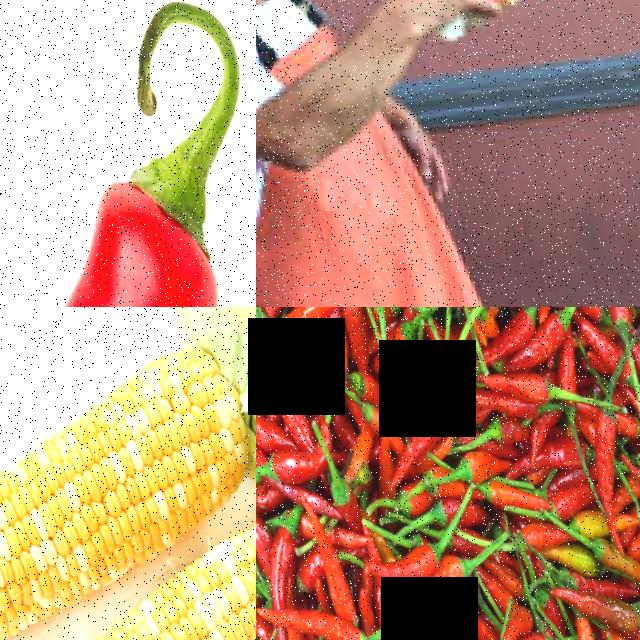chilli: (0, 26, 256, 307), (570, 403, 626, 528), (532, 571, 629, 638), (348, 535, 437, 595), (383, 394, 457, 455), (256, 592, 350, 640), (369, 596, 464, 640), (473, 362, 546, 408), (256, 436, 320, 488), (465, 470, 535, 517), (262, 307, 345, 343), (585, 307, 630, 344), (467, 627, 538, 640)
corn: (0, 338, 256, 578), (131, 492, 256, 640), (0, 456, 62, 640)
